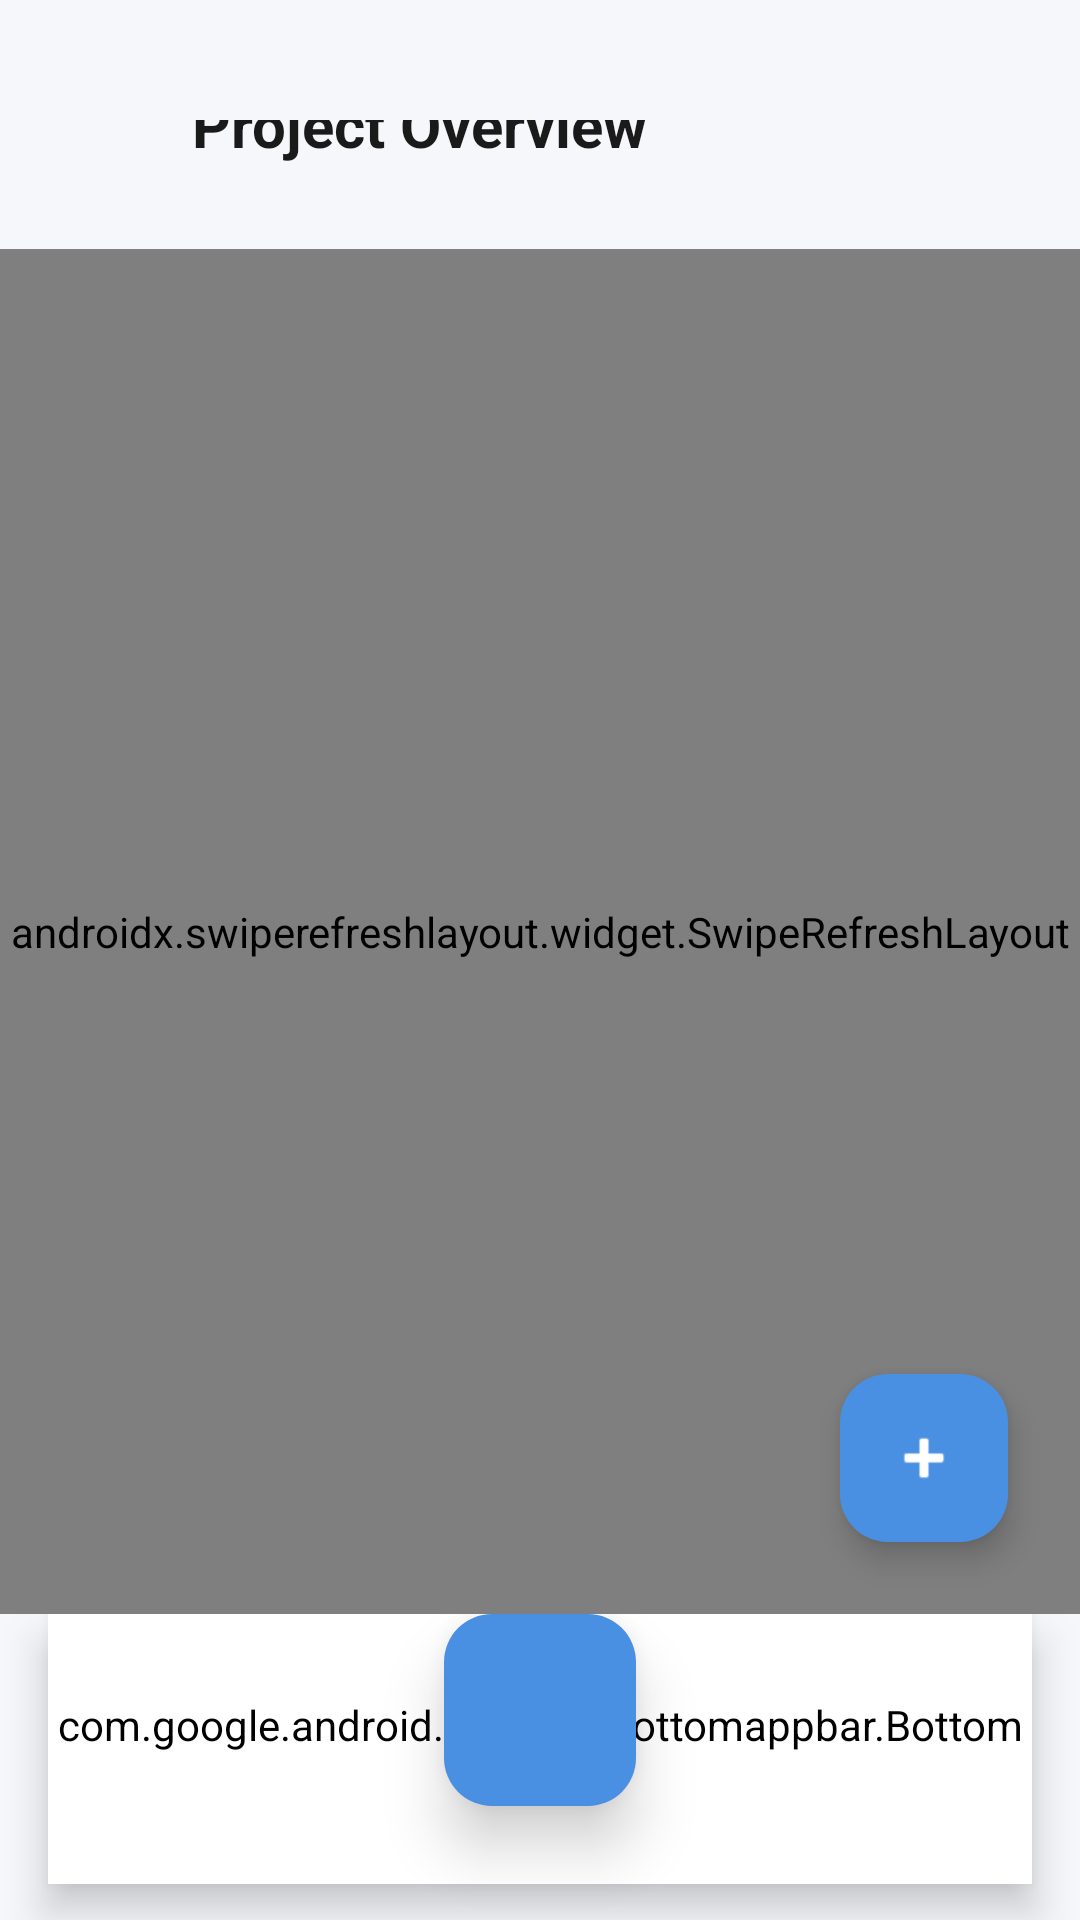

Icons on this 1080 x 1920 Android screen, each with the point to tap as (x,y):
add: (924,1458)
